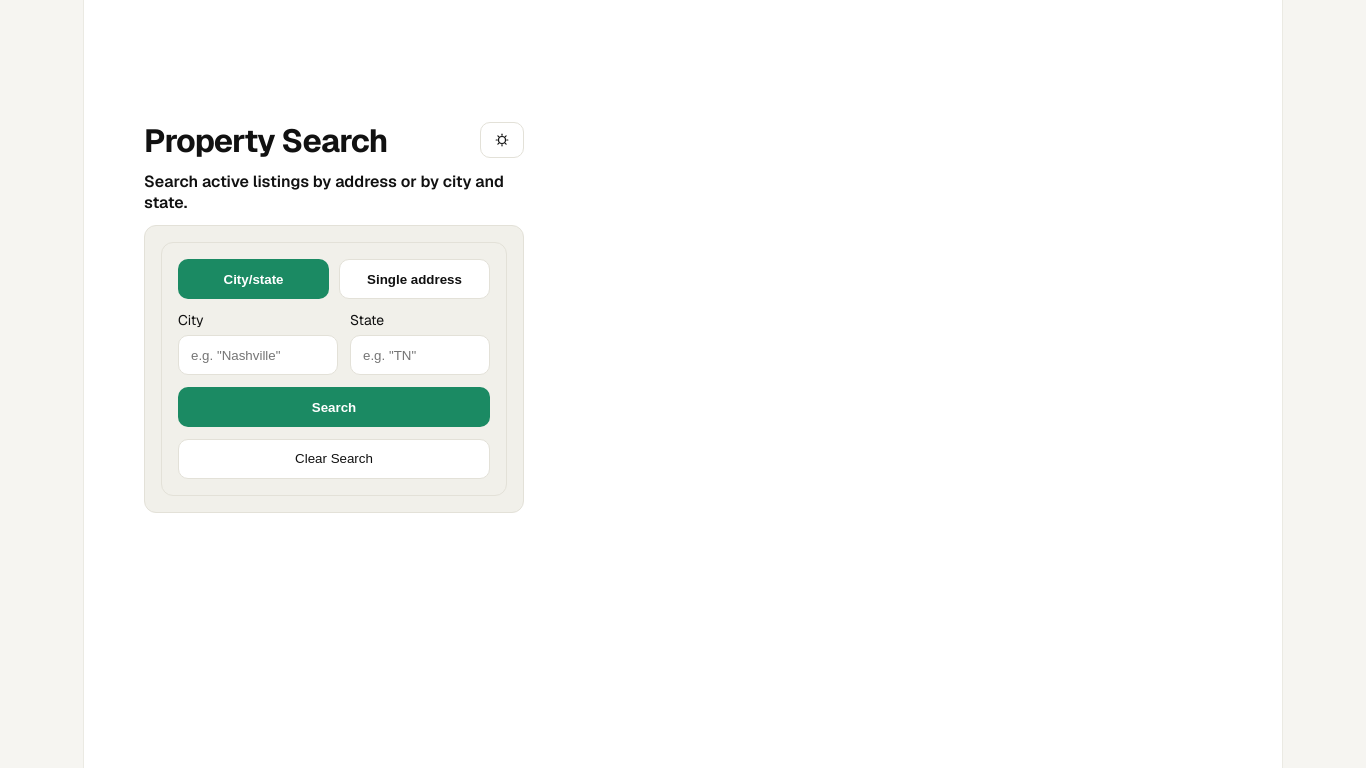
Home page › shows Searching… while request is in-flight, then shows Results and count
Type "Nashville" into the field labelled "City" at (258,355), box [178,335,338,375]
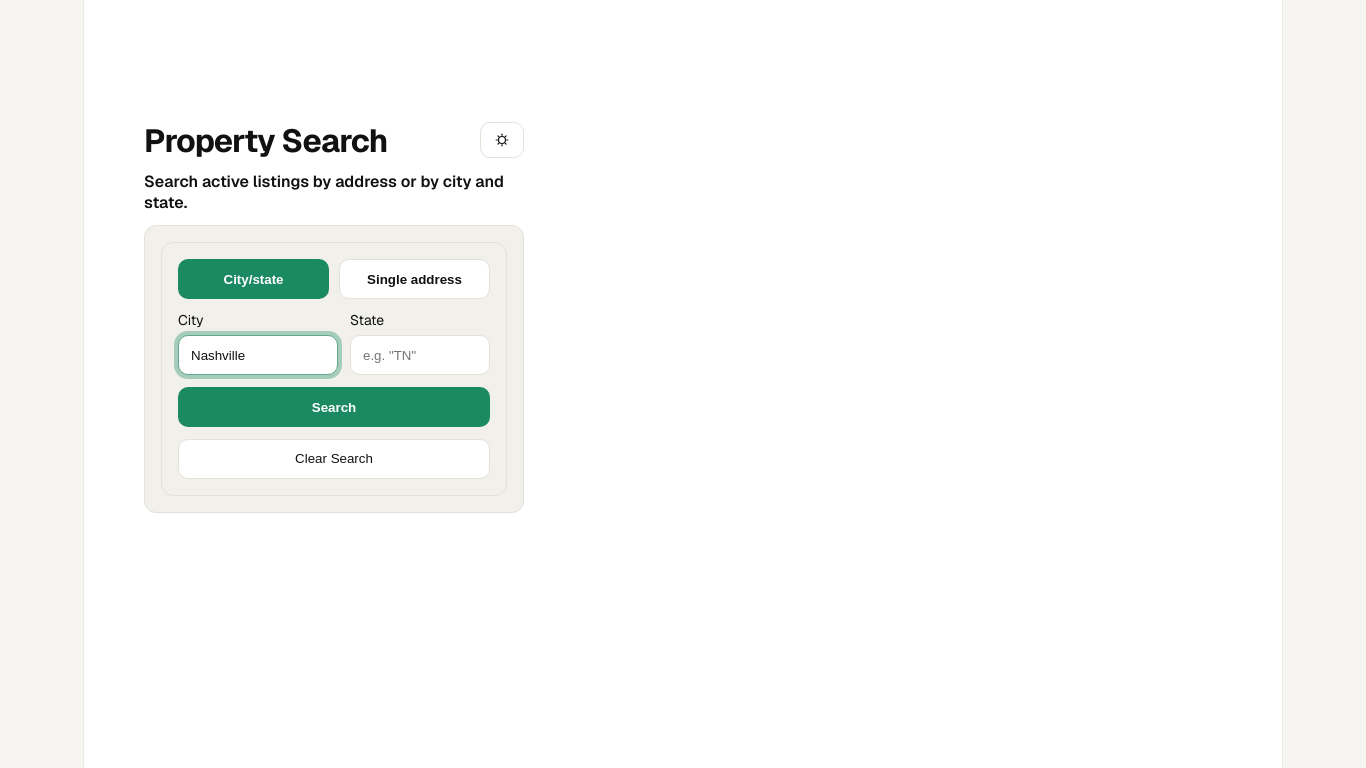
Type "TN" into the field labelled "State" at (420,355), box [350,335,490,375]
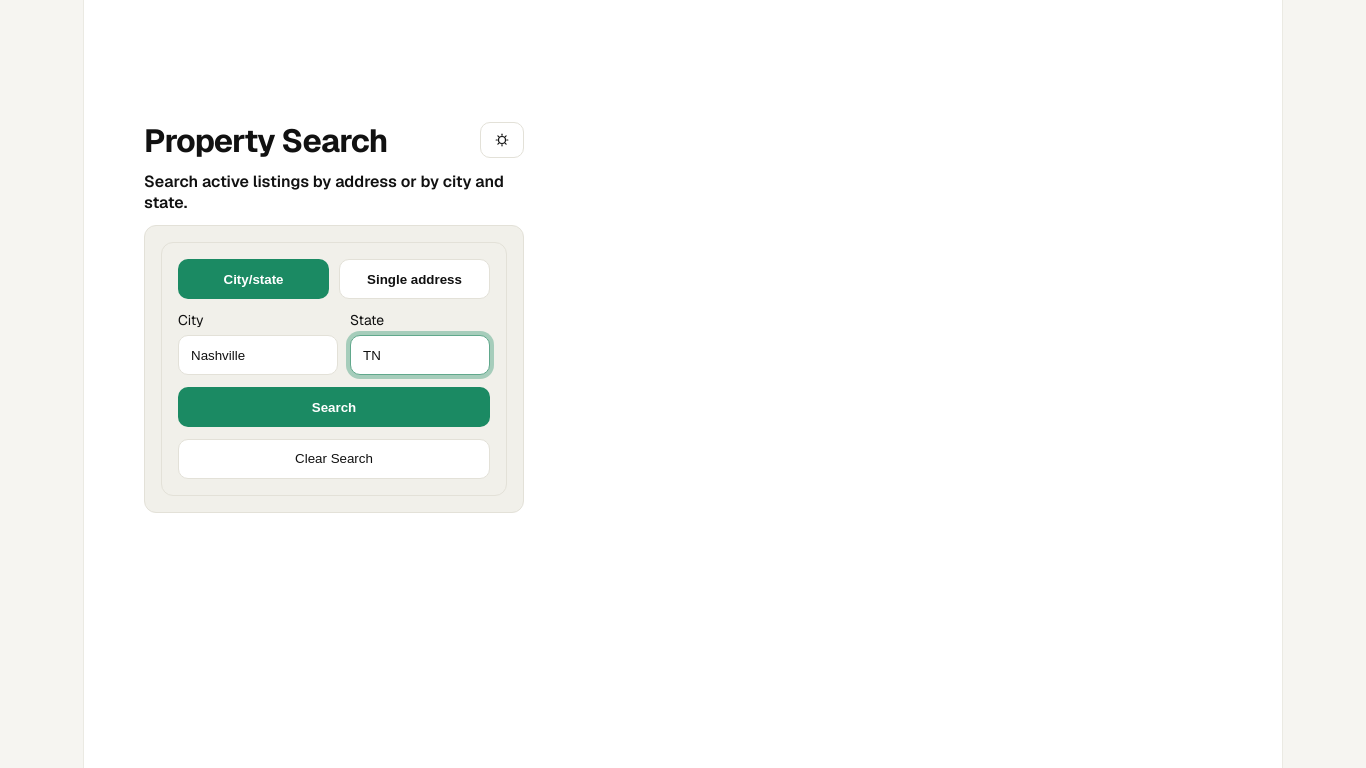
Click the button "Search" at (334,407), box [178,387,490,427]
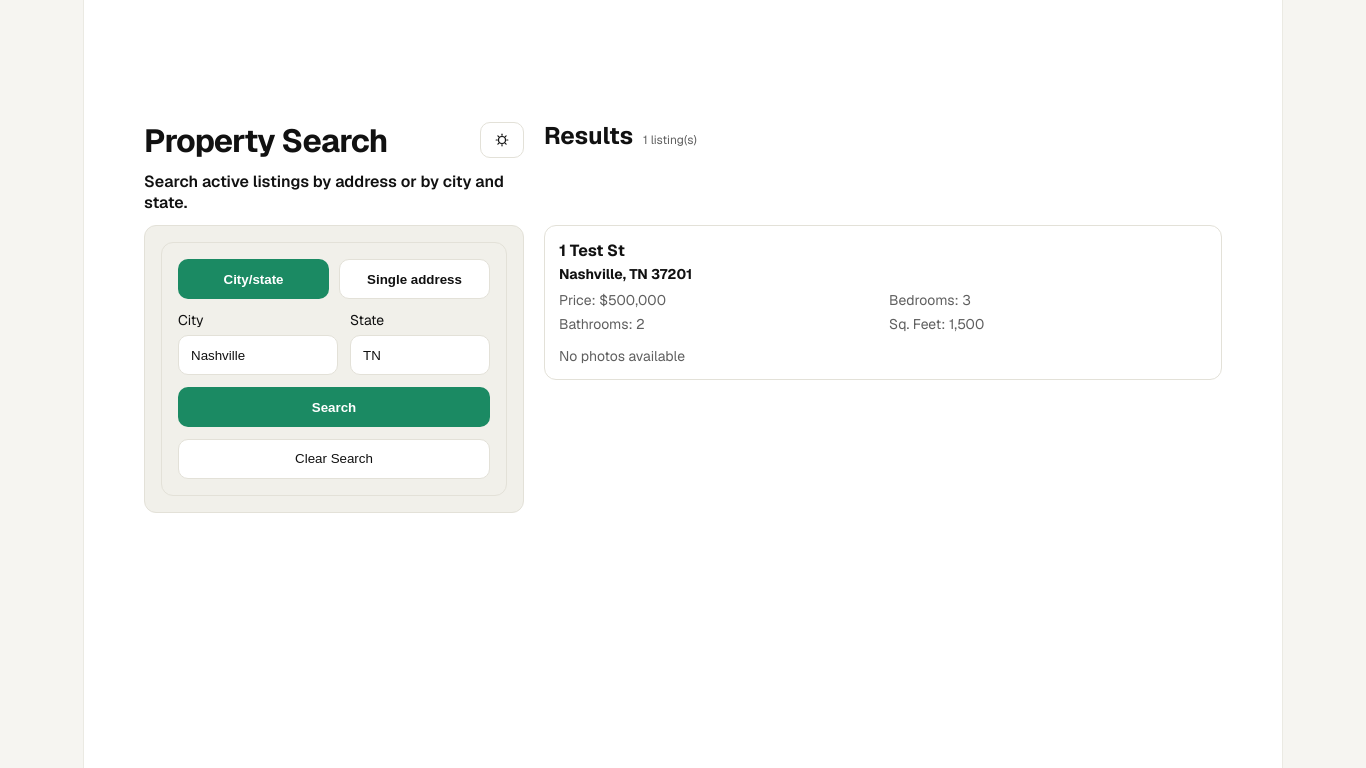
Expected: the heading "Results" is shown, [544,120,633,151]
Expected: the text "1 listing(s)" is shown, [643,132,697,148]
Expected: the text "1 Test St" is shown, [559,240,625,261]
